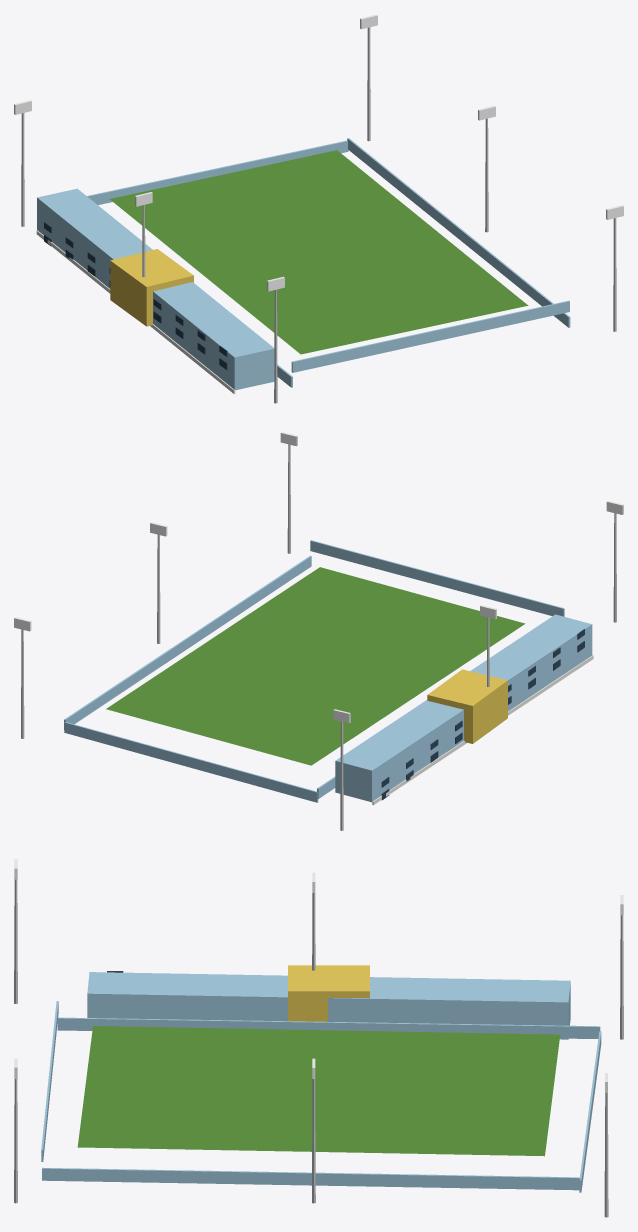
Rendered from stadion_gpt.glb.
3 renders of one model, top to bottom at view 1: azimuth 30°, elevation 25°; view 2: azimuth 150°, elevation 25°; view 3: azimuth 270°, elevation 25°, orthographic. The views are drawn at different scales.
Visible parts, largest first — view 1: stadion_gpt_lod0; view 2: stadion_gpt_lod0; view 3: stadion_gpt_lod0.
Boxes of the visible parts, x1,y1,x2,y2 form: stadion_gpt_lod0: (14,14,623,403); stadion_gpt_lod0: (14,432,623,830); stadion_gpt_lod0: (14,859,623,1217).
Size of what is drawn, in the model's own units: 94.55 by 35.7 by 119.
